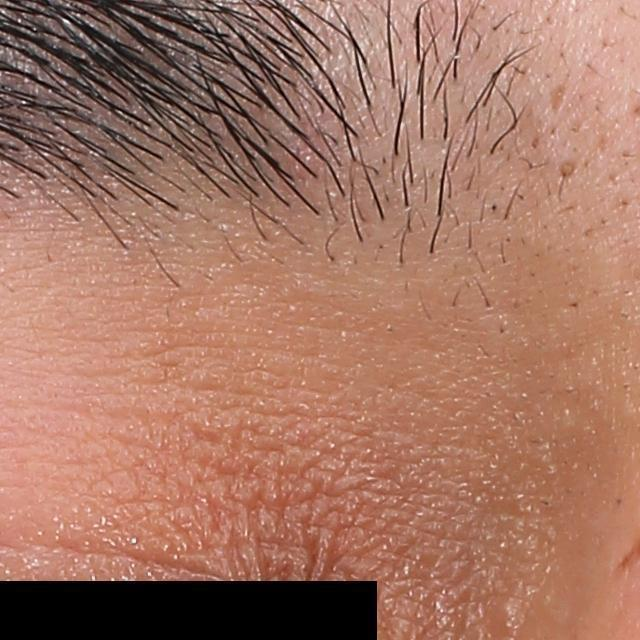atrophic_scar: (544, 82, 575, 121)
comedo: (482, 580, 527, 637), (555, 158, 581, 182)
